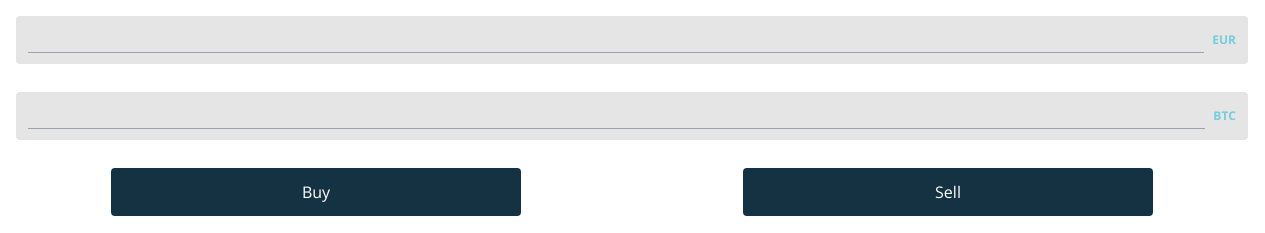
Test: TradeForm › sell validation › should show an error when BTC input is empty
This screenshot has width=1265, height=233.
Click the button "Sell".
click(948, 192)  # box [743,168,1153,216]
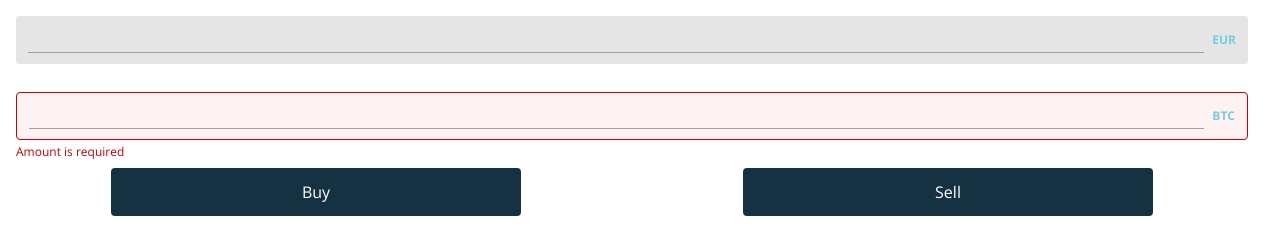
Expected: the text "Amount is required" is shown, [16,143,124,160]
